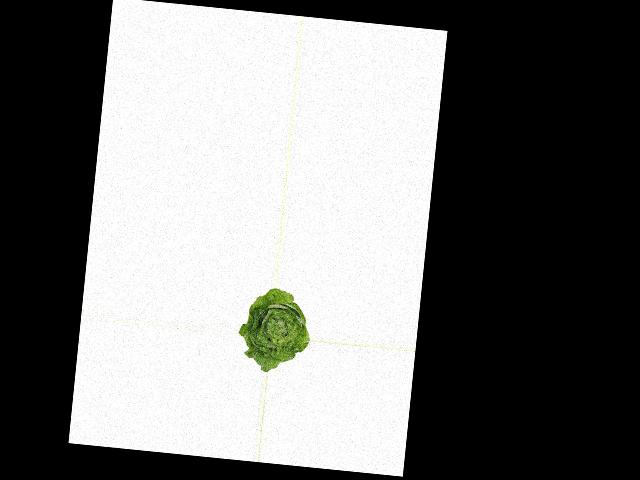lettuce: (235, 284, 313, 373)
